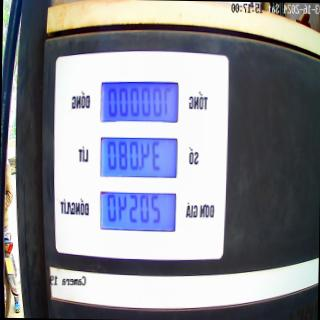screen: (96, 78, 180, 235)
